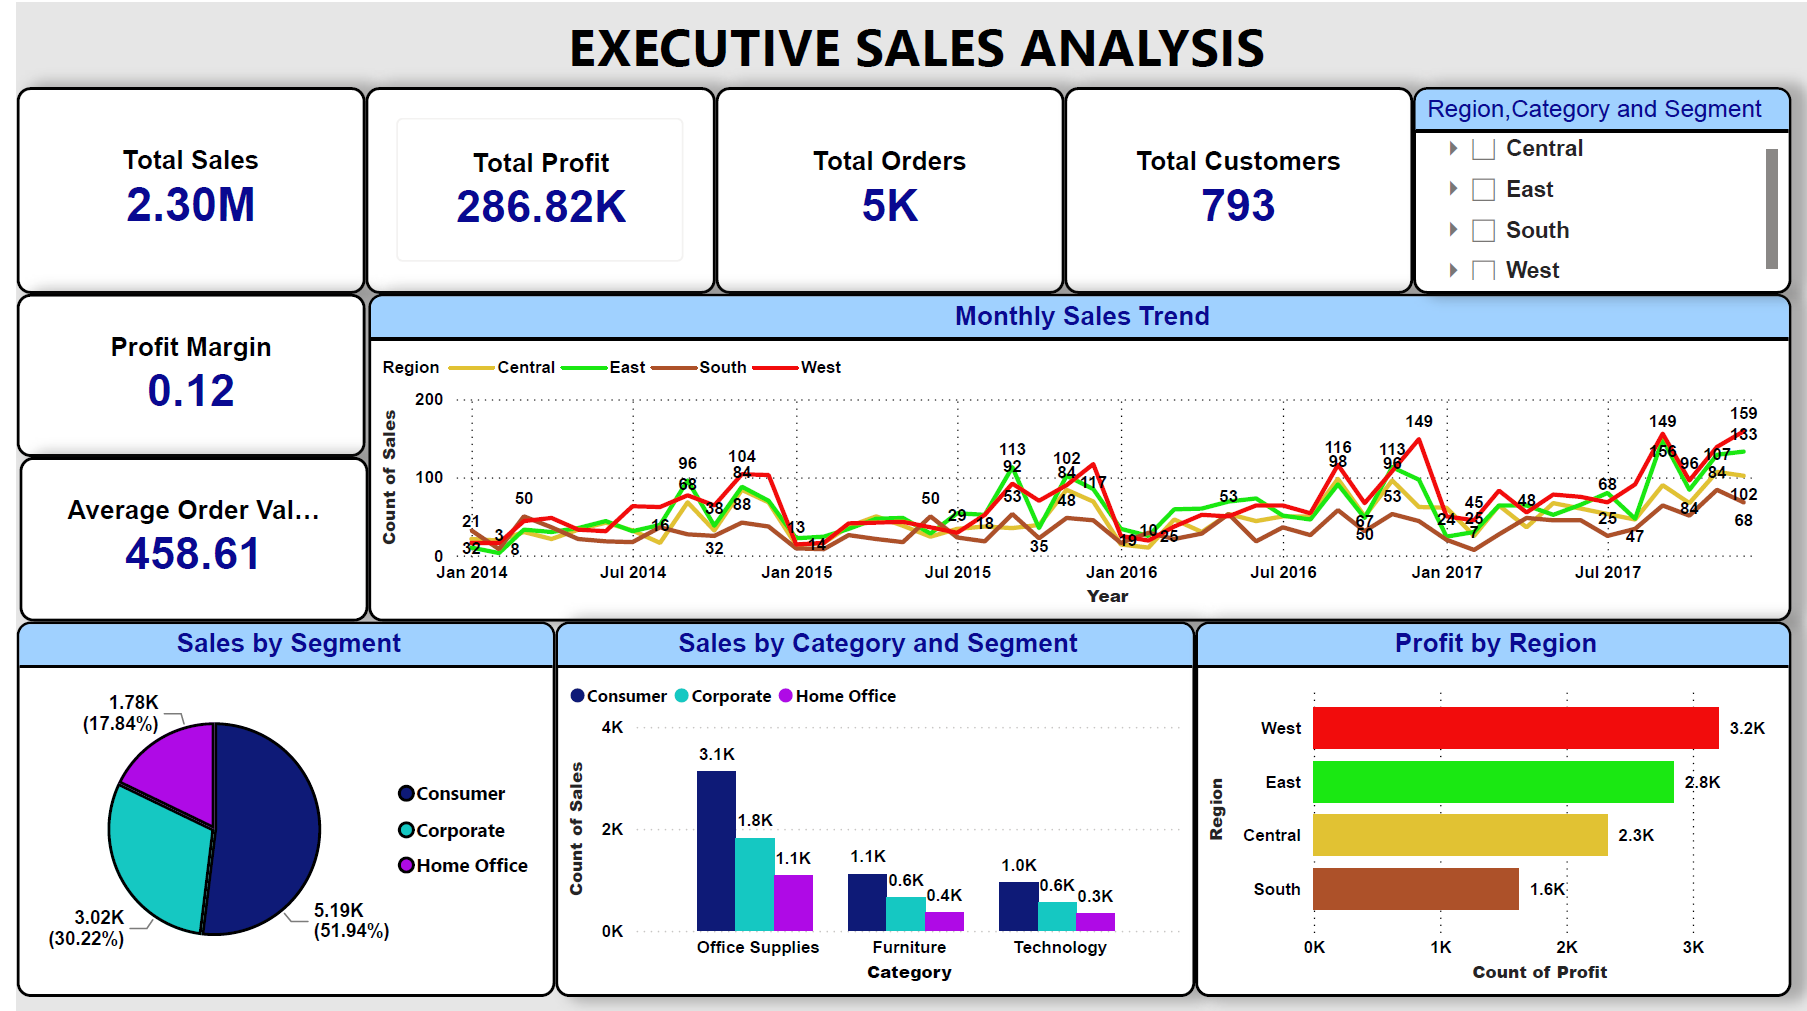

Layout of this report page (visuals, bound fields, positions):
{"tool":"powerbi","page":{"name":"Executive Sales Analysis","canvas":[1280,720],"ordinal":0},"visuals":[{"type":"cardVisual","fields":{"Data":["Sales-data.Total Sales"]},"box":[0,60,248.3,146.7],"z":0},{"type":"cardVisual","fields":{"Data":["Sales-data.Total Profit"]},"box":[248.3,60,248.3,146.7],"z":1000},{"type":"cardVisual","fields":{"Data":["Sales-data.Total Orders"]},"box":[496.7,60,248.3,146.7],"z":2000},{"type":"cardVisual","fields":{"Data":["Sales-data.Total Customers"]},"box":[745,60,248.3,146.7],"z":3000},{"type":"cardVisual","fields":{"Data":["Sales-data.Profit Margin"]},"box":[0,206.7,248.3,116.7],"z":4000},{"type":"cardVisual","fields":{"Data":["Sales-data.Average Order Value"]},"box":[1.7,323.3,248.3,116.7],"z":5000},{"type":"lineChart","title":"Monthly Sales Trend","fields":{"Category":["Sales-data.Order_Date.Variation.Date Hierarchy.Year","Sales-data.Order_Date.Variation.Date Hierarchy.Month"],"Series":["Sales-data.Region"],"Y":["CountNonNull(Sales-data.Sales)"]},"box":[250,206.7,1011.7,233.3],"z":6000},{"type":"clusteredColumnChart","title":"Sales by Category and Segment","fields":{"Category":["Sales-data.Category"],"Y":["CountNonNull(Sales-data.Sales)"],"Series":["Sales-data.Segment"]},"box":[383.3,440,455,266.7],"z":7000},{"type":"barChart","title":"Profit by Region","fields":{"Category":["Sales-data.Region"],"Y":["CountNonNull(Sales-data.Profit)"]},"box":[838.3,440,423.3,266.7],"z":8000},{"type":"pieChart","title":"Sales by Segment","fields":{"Category":["Sales-data.Segment"],"Y":["CountNonNull(Sales-data.Sales)"]},"box":[0,440,383.3,266.7],"z":9000},{"type":"slicer","title":"Region,Category and Segment","fields":{"Values":["Sales-data.Region","Sales-data.Category","Sales-data.Segment"]},"box":[993.3,60,268.3,146.7],"z":10000},{"type":"textbox","box":[363.3,0,553.3,60],"z":11000}]}

Visuals, with their boxes in screenshot pixels (x1, y1, x2, y2), scaled from the page's 1280x720 canvas onto the 1807x1011 screenshot:
cardVisual - Sales-data.Total Sales: crop(0, 84, 351, 290)
cardVisual - Sales-data.Total Profit: crop(351, 84, 701, 290)
cardVisual - Sales-data.Total Orders: crop(701, 84, 1052, 290)
cardVisual - Sales-data.Total Customers: crop(1052, 84, 1402, 290)
cardVisual - Sales-data.Profit Margin: crop(0, 290, 351, 454)
cardVisual - Sales-data.Average Order Value: crop(2, 454, 353, 618)
"Monthly Sales Trend" lineChart: crop(353, 290, 1781, 618)
"Sales by Category and Segment" clusteredColumnChart: crop(541, 618, 1183, 992)
"Profit by Region" barChart: crop(1183, 618, 1781, 992)
"Sales by Segment" pieChart: crop(0, 618, 541, 992)
"Region,Category and Segment" slicer: crop(1402, 84, 1781, 290)
textbox: crop(513, 0, 1294, 84)
